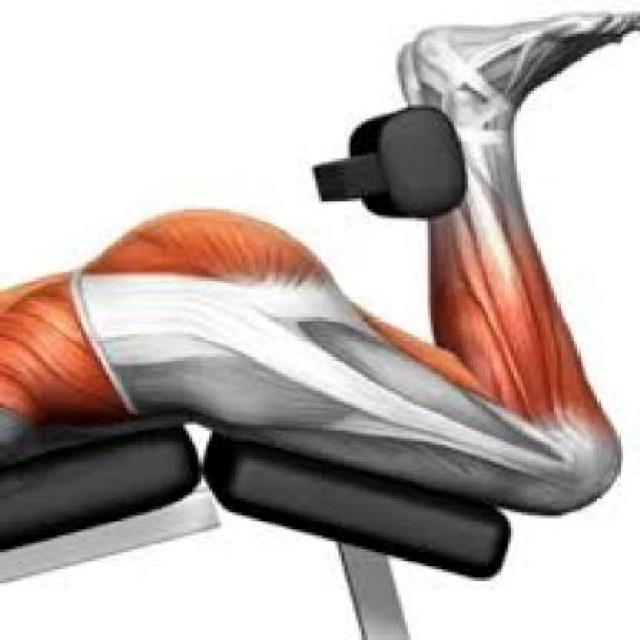reg curl machine: (3, 12, 640, 596)
